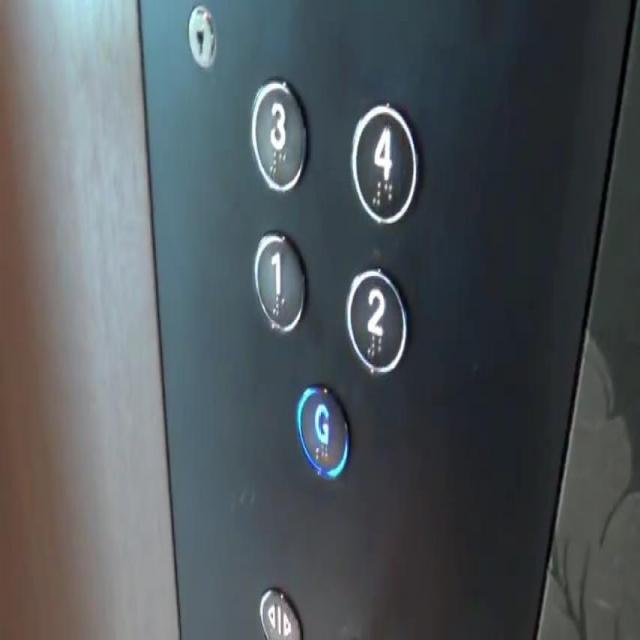1: (253, 228, 306, 332)
2: (345, 266, 406, 374)
3: (250, 76, 308, 195)
4: (348, 100, 417, 225)
G: (295, 382, 349, 482)
keyhole: (184, 2, 217, 70)
open: (259, 584, 303, 639)
